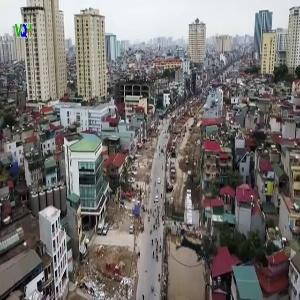drone: (159, 207, 233, 281)
